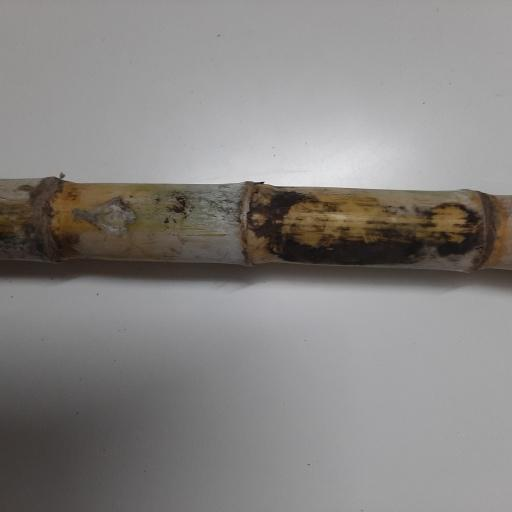Bud: (246, 210, 266, 230)
